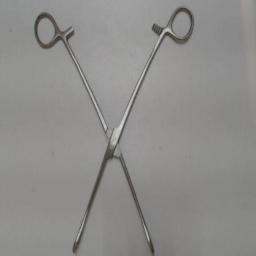Sponge Forceps: (29, 2, 197, 254)
